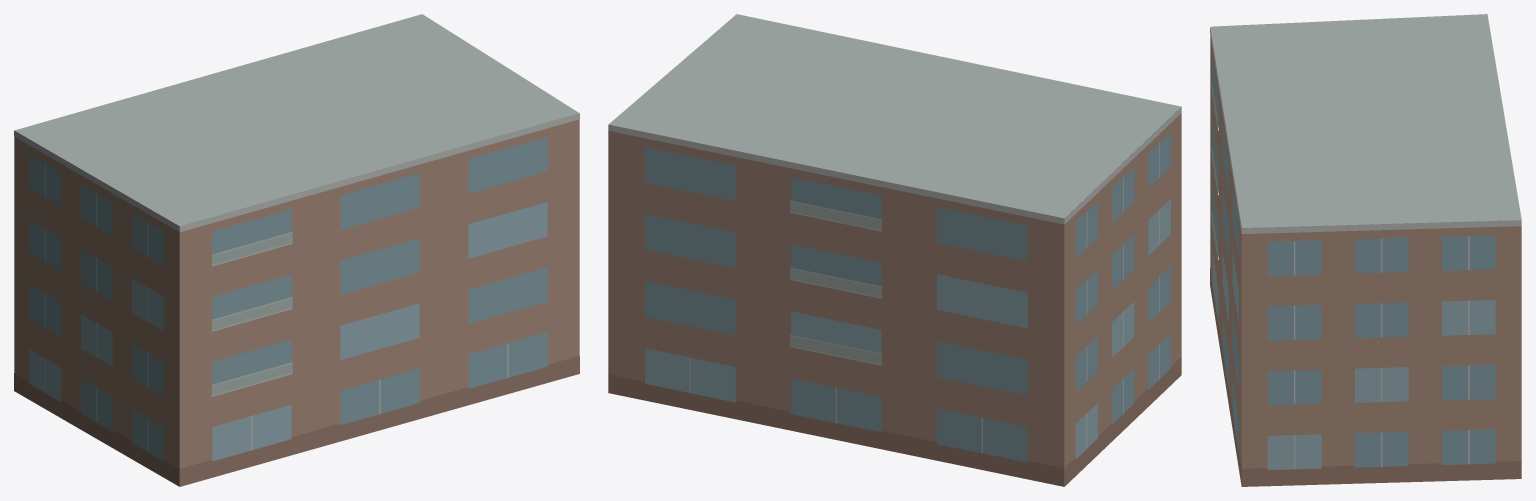
Rendered from survey-upis-32759019.glb.
3 views of the same model, side by side, from view 1: azimuth 30°, elevation 25°; view 2: azimuth 150°, elevation 25°; view 3: azimuth 270°, elevation 25° (orthographic). The views are drawn at different scales.
Parts seen in each view (by area): view 1: survey-upis-32759019.tmp; view 2: survey-upis-32759019.tmp; view 3: survey-upis-32759019.tmp.
Boxes of the visible parts, bbox=[...] form: survey-upis-32759019.tmp: bbox=[14, 14, 579, 486]; survey-upis-32759019.tmp: bbox=[608, 14, 1181, 486]; survey-upis-32759019.tmp: bbox=[1210, 14, 1521, 486].
Size of the model in its own units: 18.64 by 10.5 by 11.47.
